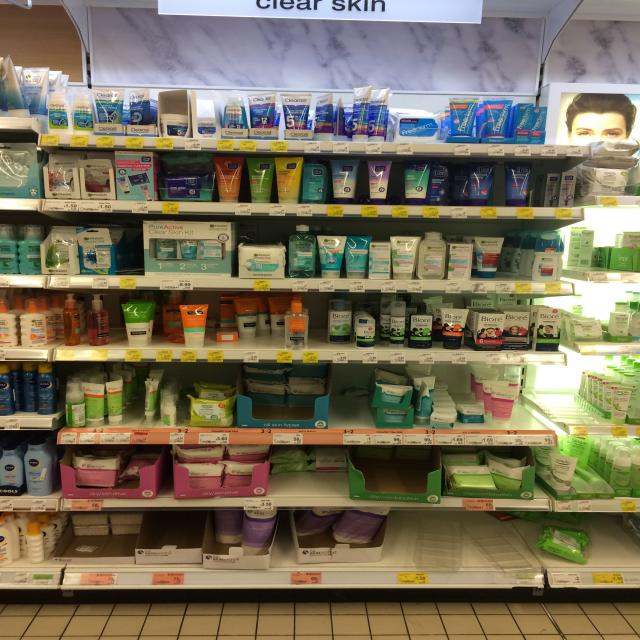void: (387, 514, 534, 567), (526, 366, 612, 422), (330, 367, 370, 429), (592, 516, 637, 568)
